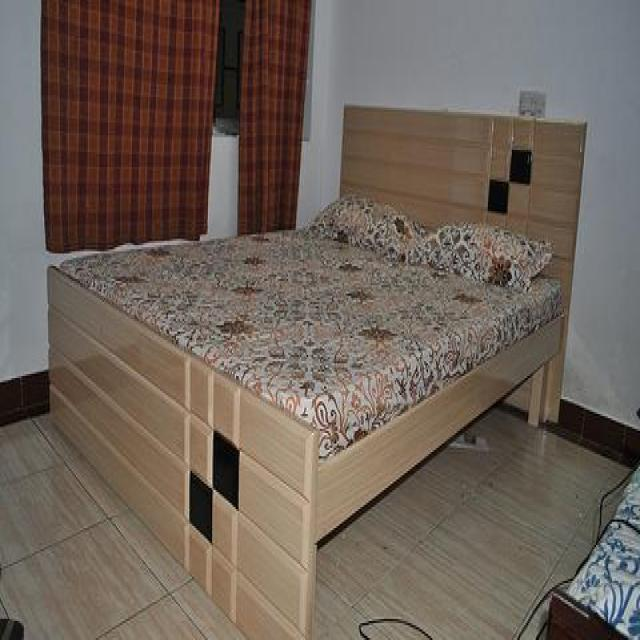bed: (45, 103, 587, 638)
